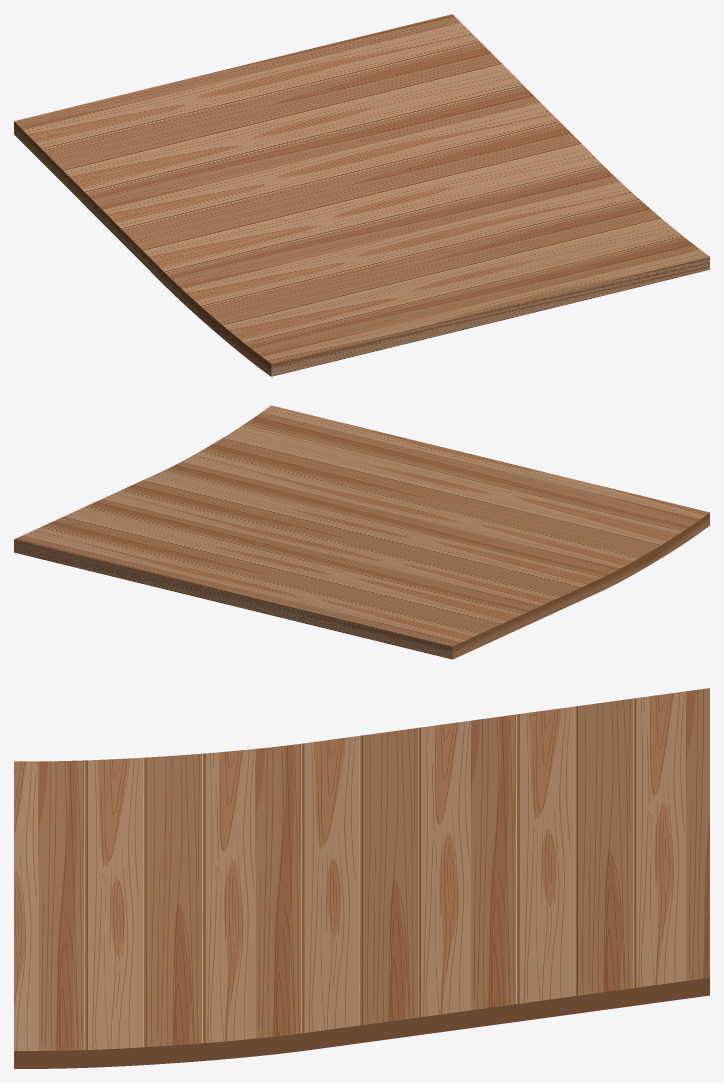
Rendered from ramp1.fbx.
The picture shows the model from 3 angles, top to bottom: view 1: azimuth 30°, elevation 25°; view 2: azimuth 150°, elevation 25°; view 3: azimuth 270°, elevation 25°; orthographic projection. The views are drawn at different scales.
Visible parts, largest first — view 1: Cube.037; view 2: Cube.037; view 3: Cube.037.
Boxes of the visible parts, x1=… form: Cube.037: x1=14, y1=14, x2=709, y2=376; Cube.037: x1=14, y1=405, x2=709, y2=659; Cube.037: x1=14, y1=688, x2=709, y2=1068.
Size of the model in its own units: 509 by 74.7 by 517.
Materials: 1 (1 with a texture image).
